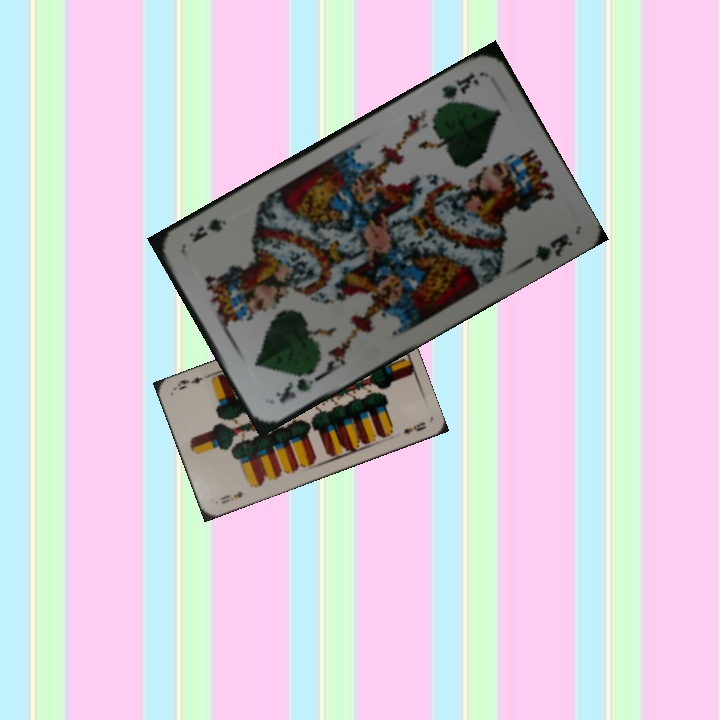E9: (216, 486, 246, 507)
GK: (435, 68, 483, 111), (271, 371, 324, 407)
